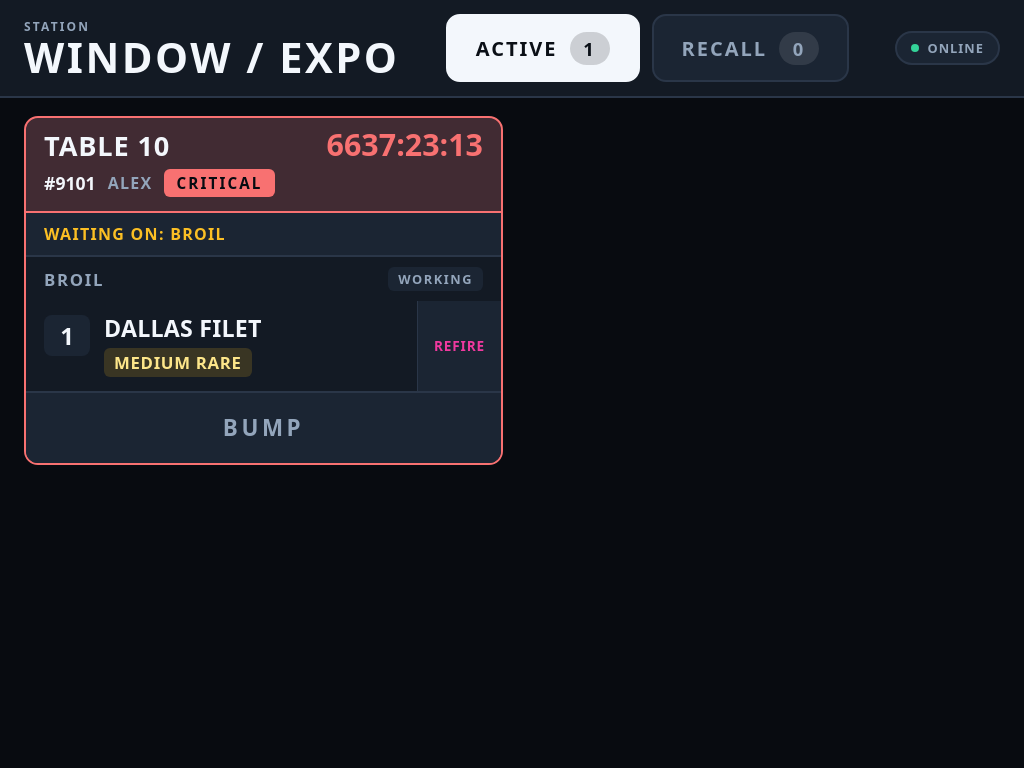
it: WindowPage — REFIRE confirmation flow (Step 7) › canceling the confirmation sends no request
The width and height of the screenshot is (1024, 768).
Step 1. Click the button "REFIRE" → coordinates (459, 346), box top-left (417, 301), bottom-right (501, 391)
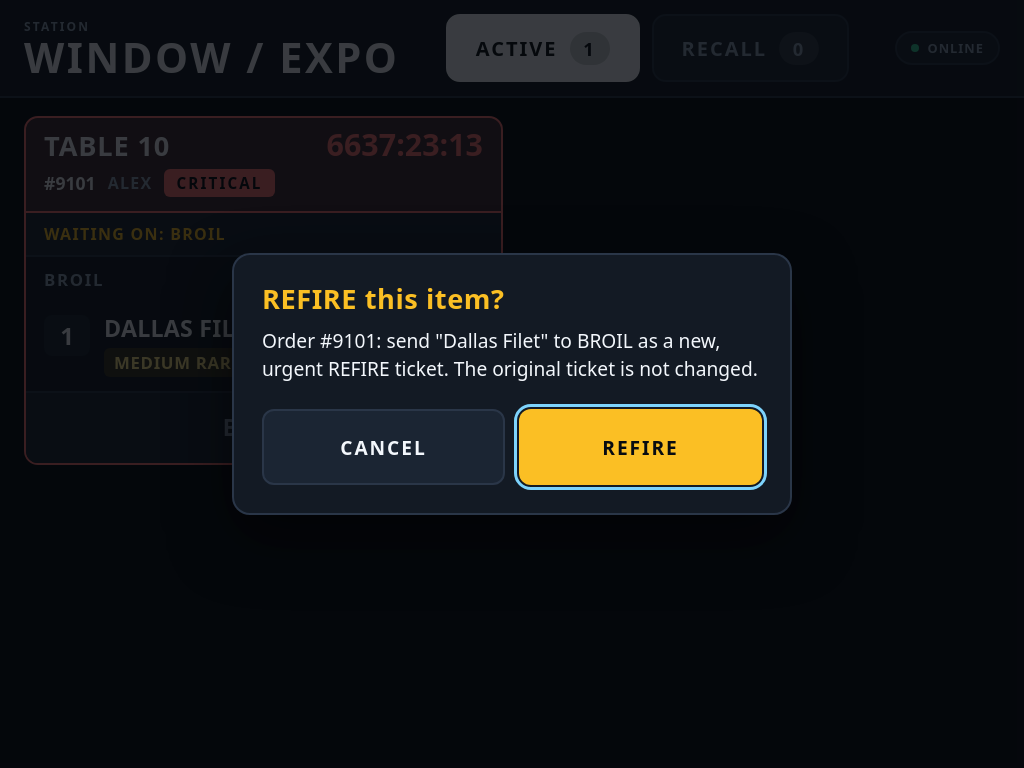
Step 2. Click the button "CANCEL" → coordinates (384, 447), box top-left (262, 409), bottom-right (505, 485)
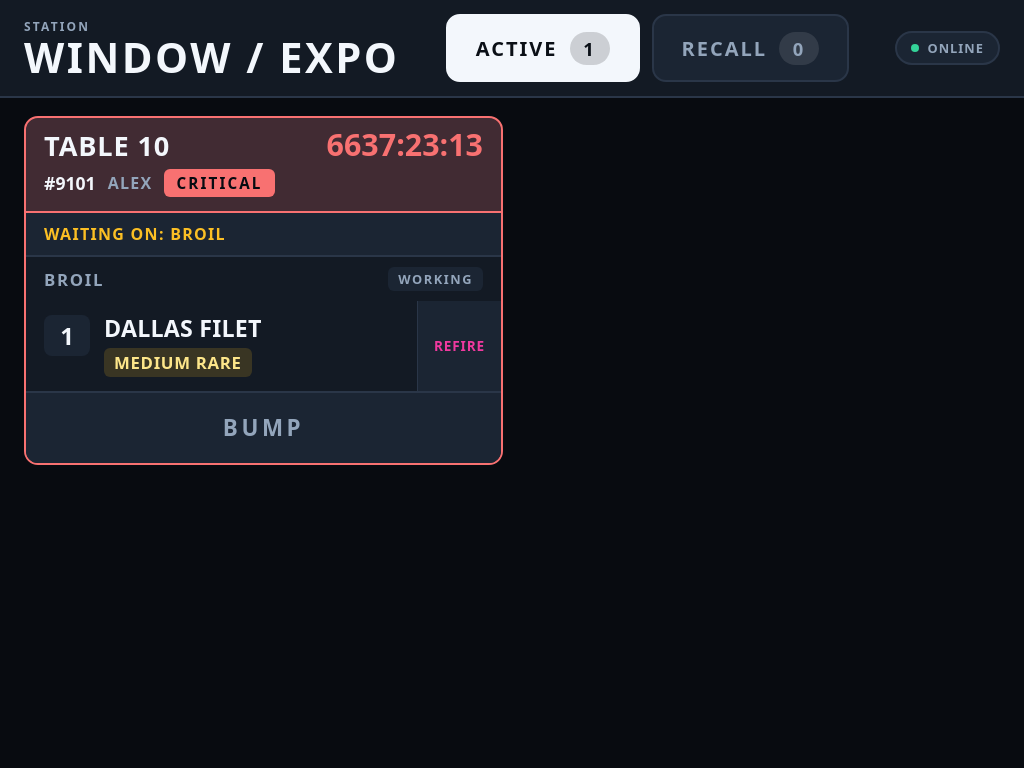
Expected: the dialog is gone
